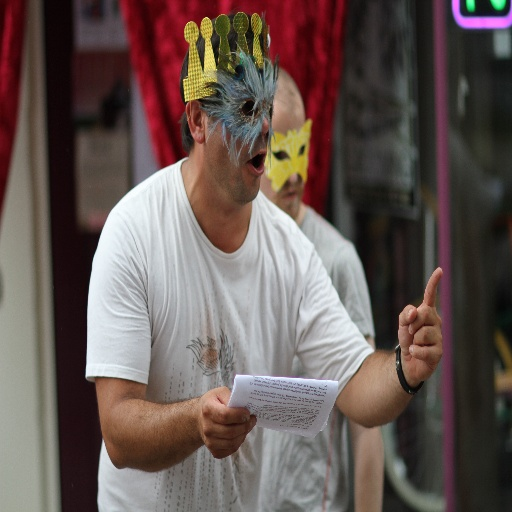hand: (398, 292, 450, 387), (195, 383, 258, 461)
